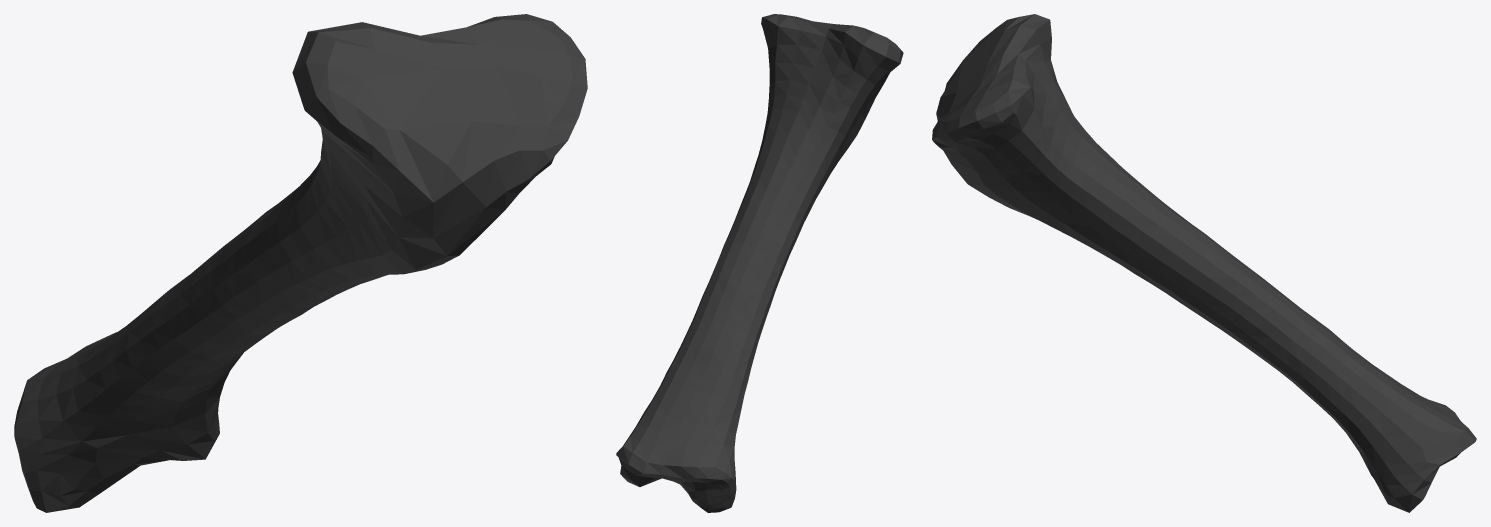
The model's file is RHL_tibia2.glb.
The picture shows the model from 3 angles, left to right: view 1: azimuth 30°, elevation 25°; view 2: azimuth 150°, elevation 25°; view 3: azimuth 270°, elevation 25°; orthographic projection. The views are drawn at different scales.
Parts seen in each view (by area): view 1: RHL_tibia2; view 2: RHL_tibia2; view 3: RHL_tibia2.
Boxes of the visible parts, bbox=[...] form: RHL_tibia2: bbox=[14, 14, 587, 512]; RHL_tibia2: bbox=[616, 14, 903, 512]; RHL_tibia2: bbox=[932, 14, 1476, 512].
Bounding box in the file's own units: 19.3 × 48.79 × 52.49.
Materials: 1 (1 with a texture image).
